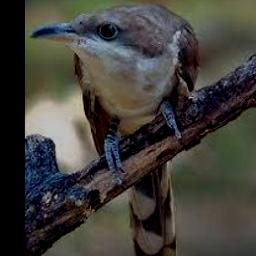Cuckoo: (29, 2, 201, 256)
